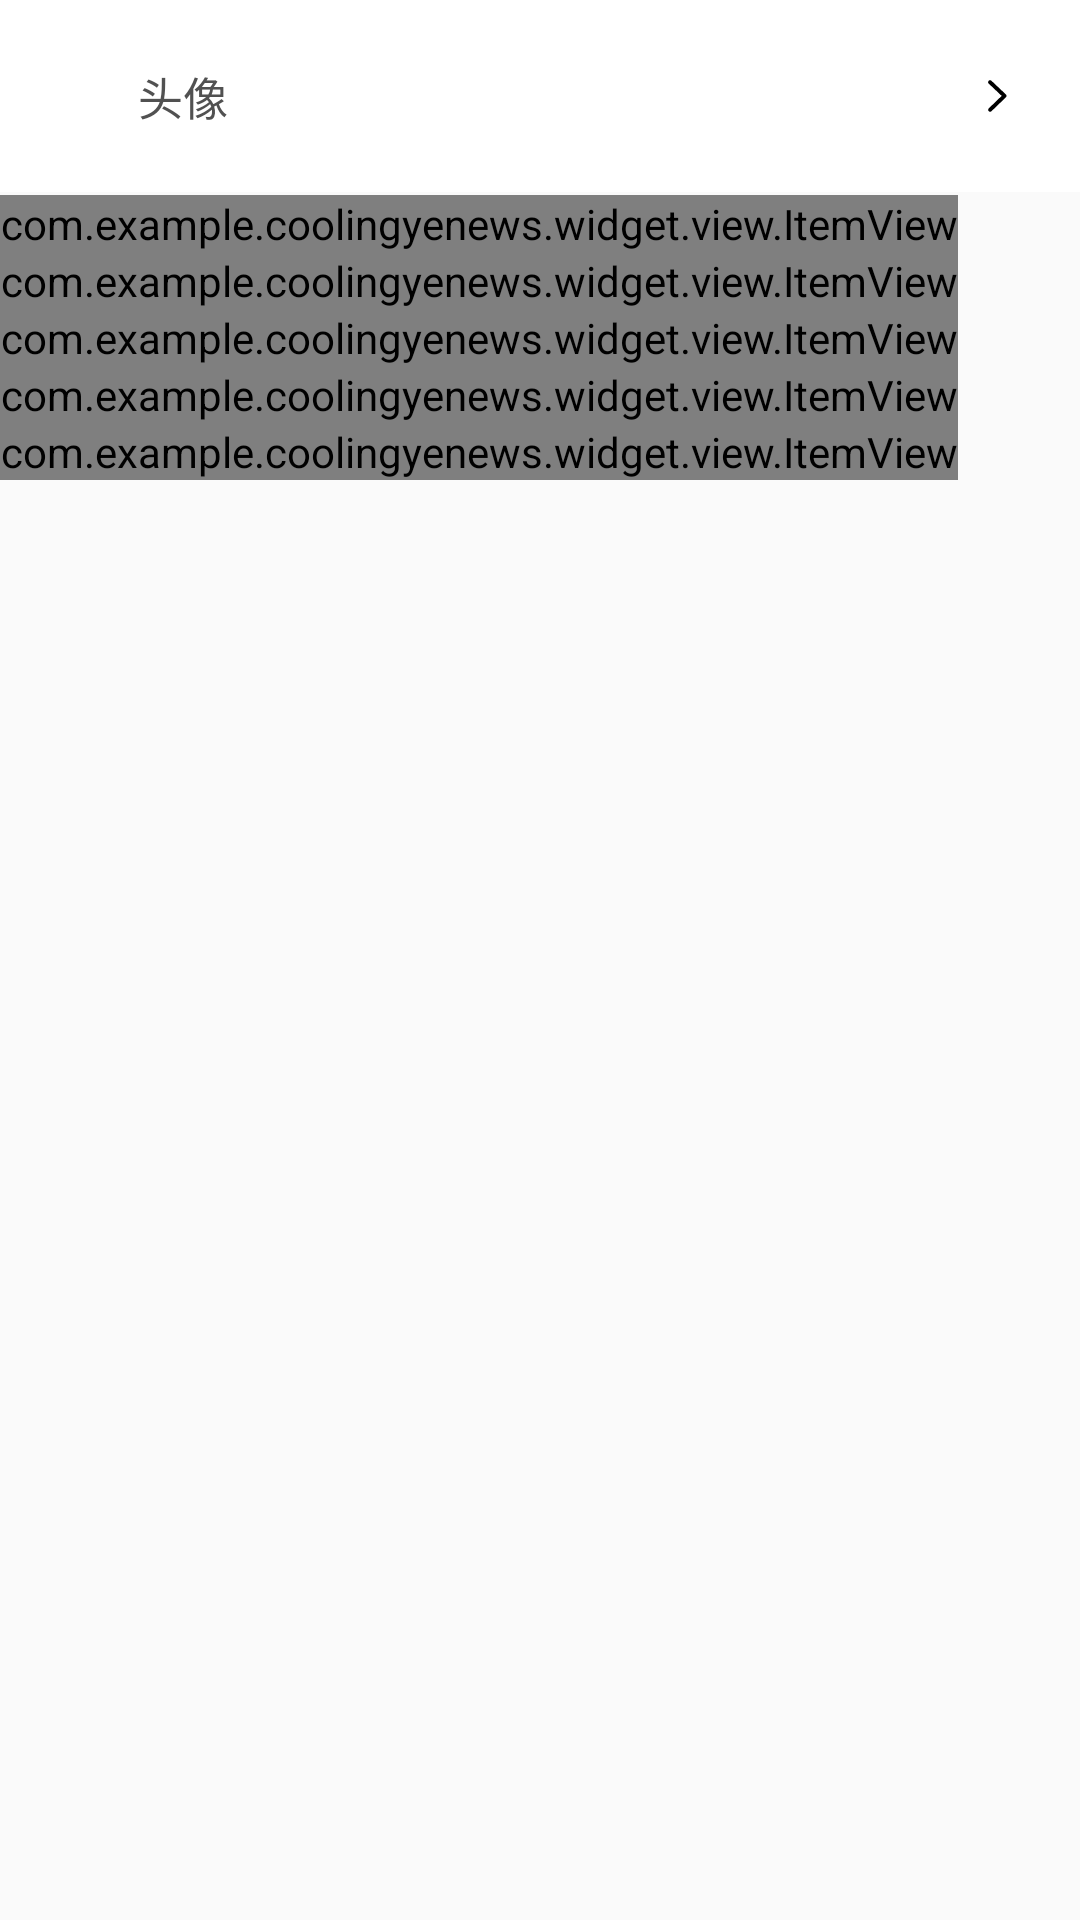

Icon click points for this 1080x1920 phone screenshot, format (x,y):
enter: (997,96)
